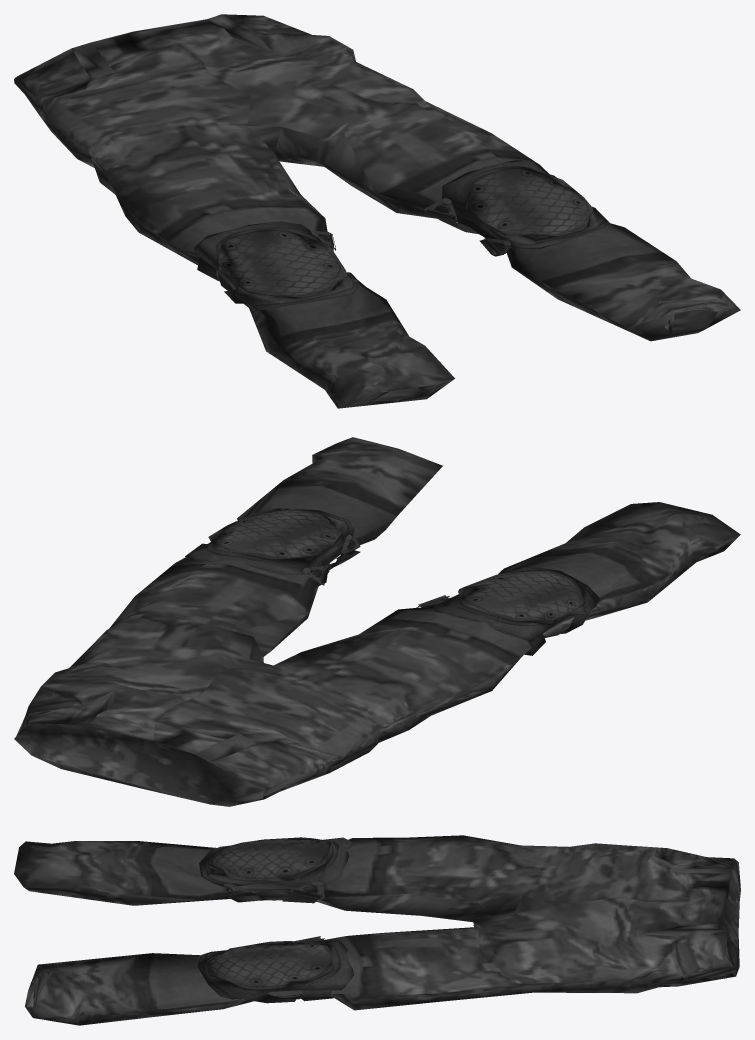
Rendered from TaskForcePants_Ground.fbx.
3 views of the same model, one above another, from view 1: azimuth 30°, elevation 25°; view 2: azimuth 150°, elevation 25°; view 3: azimuth 270°, elevation 25° (orthographic). The views are drawn at different scales.
Parts seen in each view (by area): view 1: Pants.002; view 2: Pants.002; view 3: Pants.002.
Part boxes in pixels (x1,y1,x2,y2): Pants.002: (14,14,740,408); Pants.002: (14,437,740,806); Pants.002: (14,835,740,1025).
Bounding box in the file's own units: 0.27 × 0.0349 × 0.4767.
